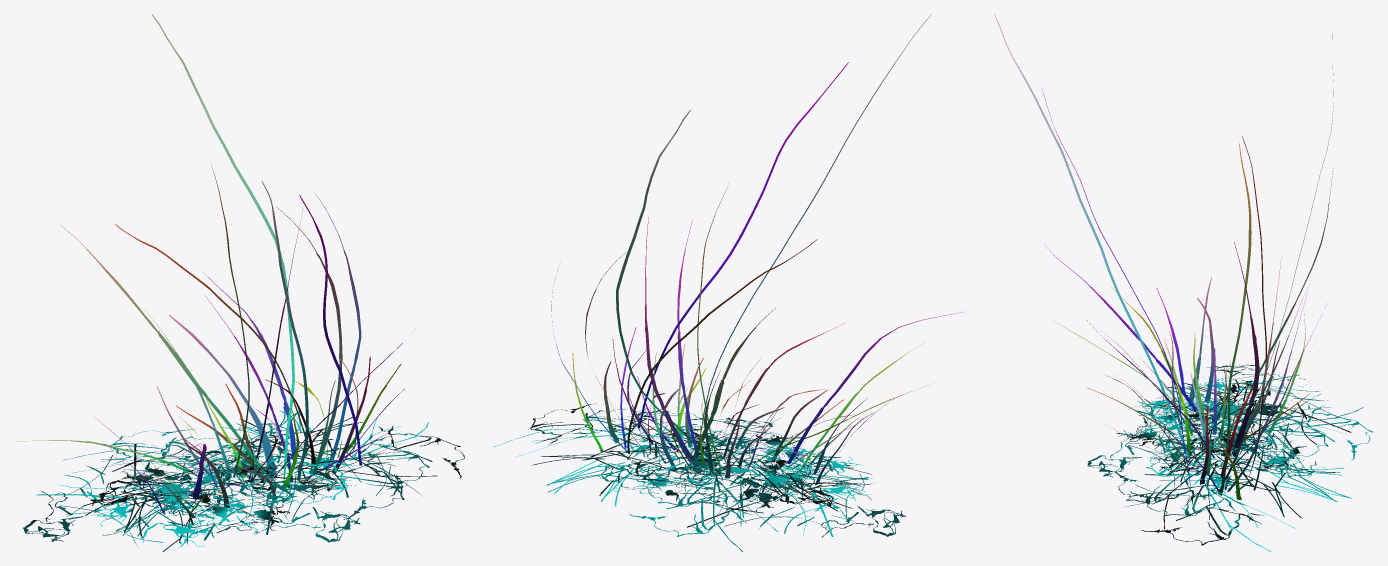
Rendered from Wild_Grass_vczndjqja_Raw_vczndjqja_VarH_LOD0.fbx.
The picture shows the model from 3 angles, left to right: view 1: azimuth 30°, elevation 25°; view 2: azimuth 150°, elevation 25°; view 3: azimuth 270°, elevation 25°; orthographic projection. The views are drawn at different scales.
Visible parts, largest first — view 1: _b4lg_VarH_High; view 2: _b4lg_VarH_High; view 3: _b4lg_VarH_High.
Part boxes in pixels (x1=…): _b4lg_VarH_High: x1=16, y1=14, x2=464, y2=551; _b4lg_VarH_High: x1=493, y1=14, x2=965, y2=551; _b4lg_VarH_High: x1=994, y1=14, x2=1373, y2=551.
Size of the model in its own units: 87.77 by 89.39 by 75.2.
